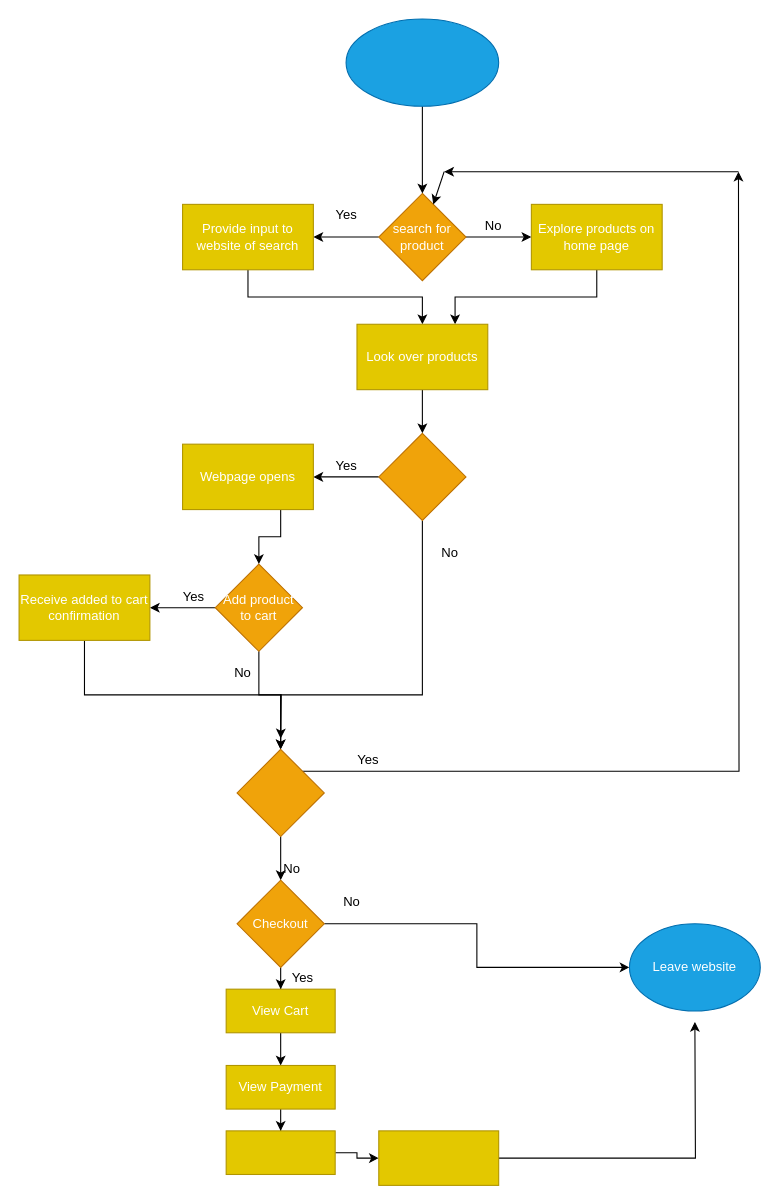
The diagram is 779 pixels wide and 1204 high, and some of its shapes have lost their labels. The shapes that lost their labels are listed below. From the top down, each one's box as (x1, y1, x2, y2) in pixels, then its label:
(345, 18, 499, 106): User enters website
(378, 432, 466, 520): View specific product
(236, 748, 324, 837): Continue Shopping
(225, 1130, 335, 1174): Input payment info
(378, 1130, 499, 1185): See order confirmation screen and receive email
